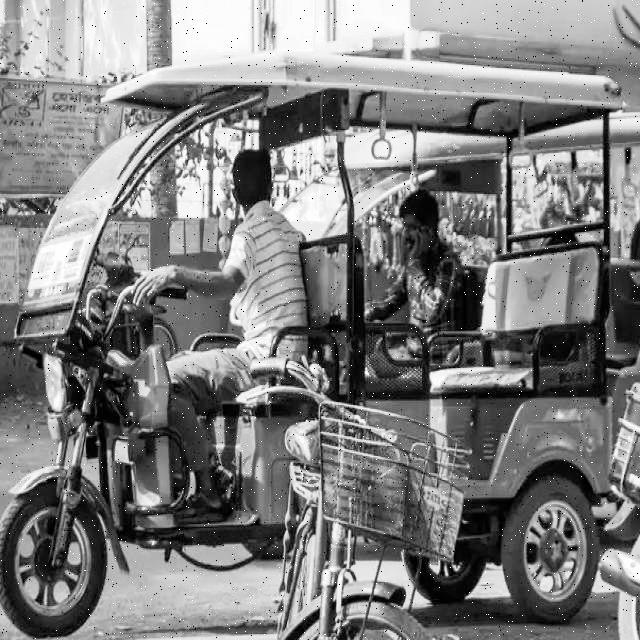Toto: (0, 47, 620, 619)
